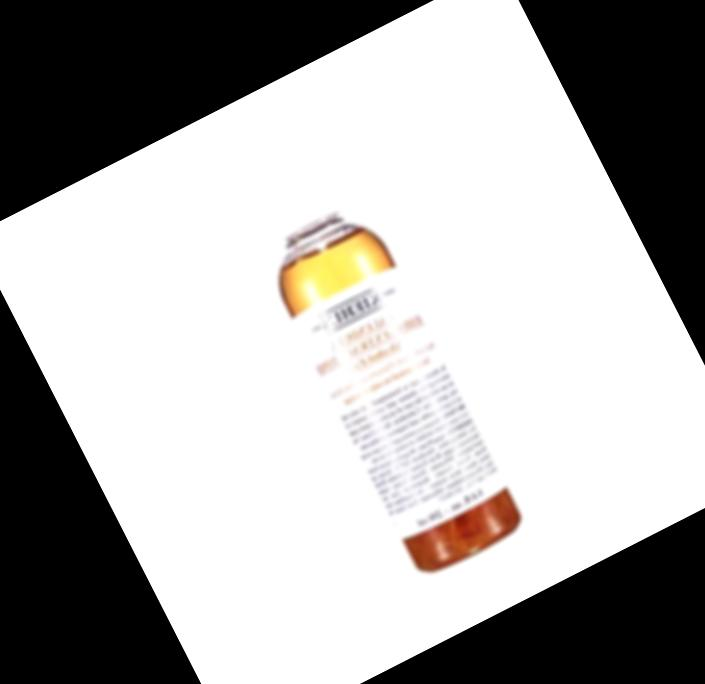cosmetic: (222, 131, 527, 581)
